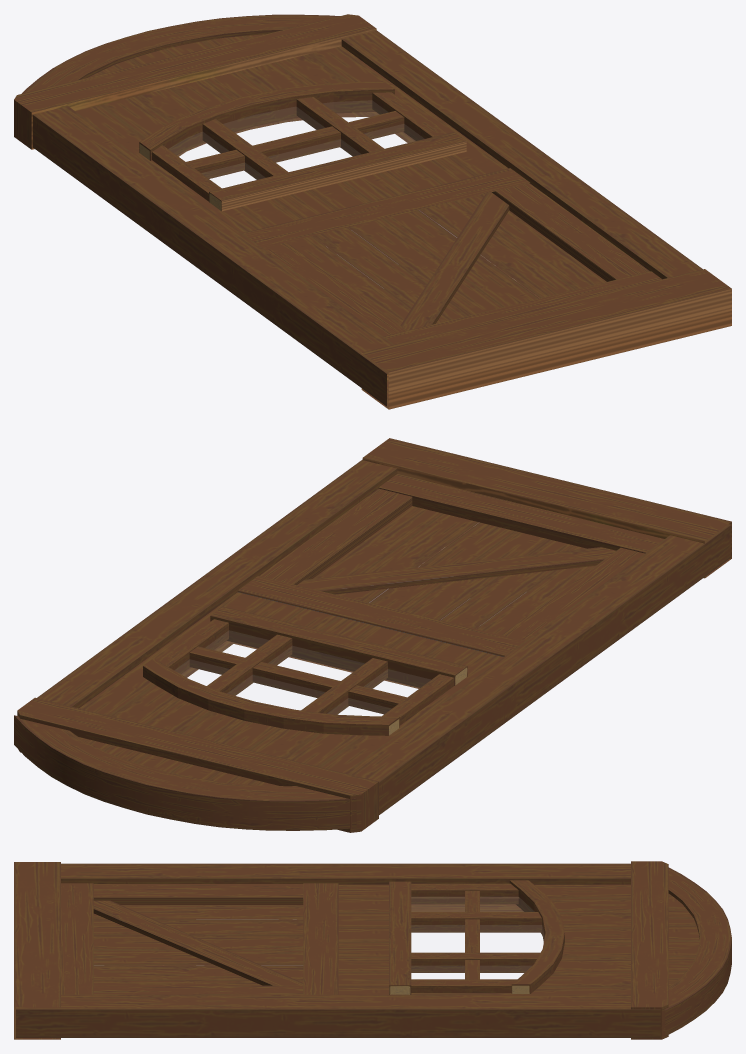
The model's file is Door_1_Round.fbx.
3 views of the same model, one above another, from view 1: azimuth 30°, elevation 25°; view 2: azimuth 150°, elevation 25°; view 3: azimuth 270°, elevation 25° (orthographic). The views are drawn at different scales.
Parts seen in each view (by area): view 1: Door_1_Round; view 2: Door_1_Round; view 3: Door_1_Round.
Boxes of the visible parts, left/top/right/bottom form: Door_1_Round: left=14, top=14, right=731, bottom=409; Door_1_Round: left=14, top=438, right=731, bottom=832; Door_1_Round: left=14, top=861, right=731, bottom=1039.
Bounding box in the file's own units: 1.12 × 0.1207 × 2.32.
